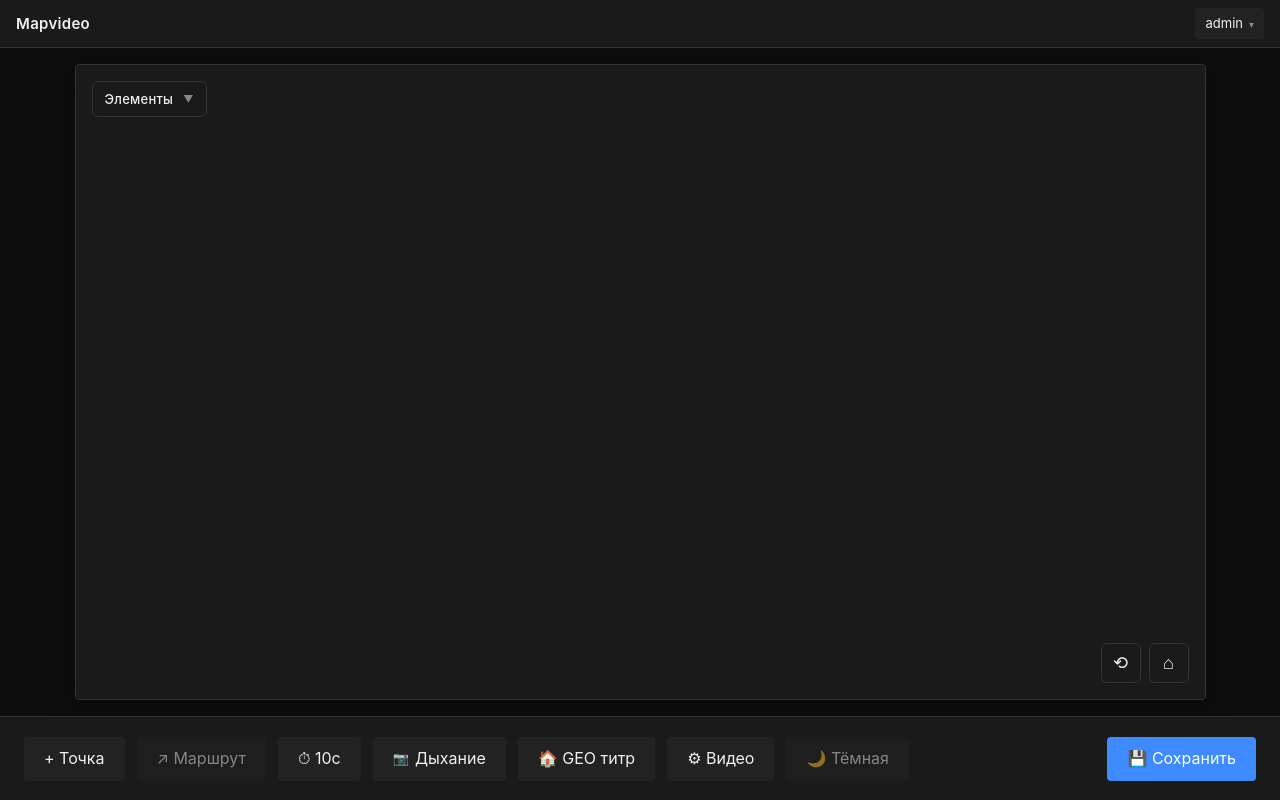
EditorPage › opens video settings modal from toolbar (task7)
Click the button "⚙ Видео" at (721, 758), box [667,736,774,780]
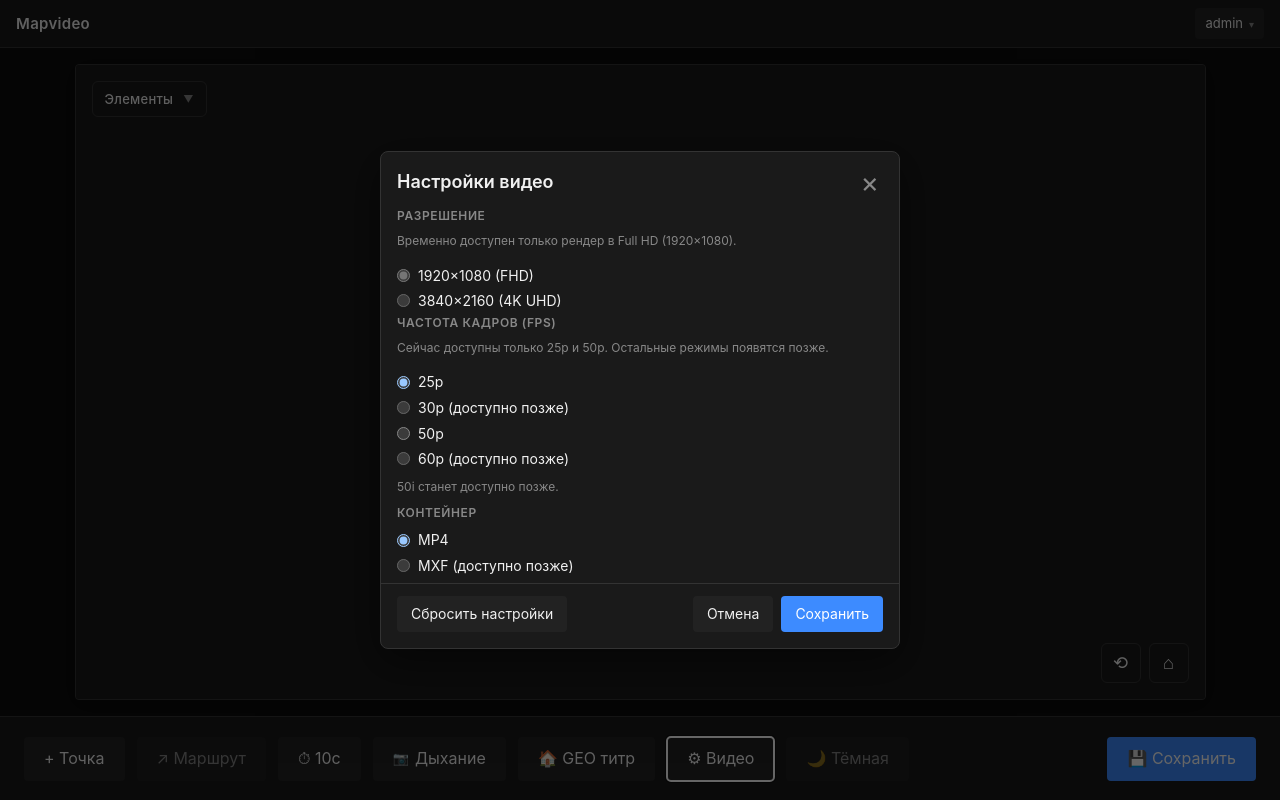
Now the dialog is shown, box [380,151,900,649]
Now the heading "Настройки видео" is shown, box [397,169,554,194]
Now the heading "Контейнер" is shown, box [397,506,477,520]
